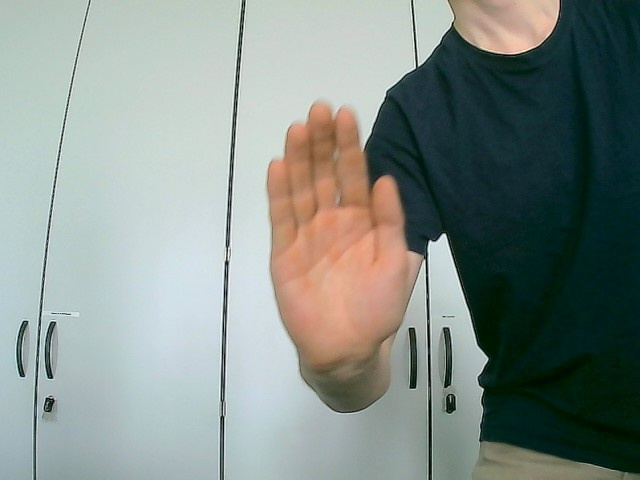stop: (265, 100, 415, 374)
